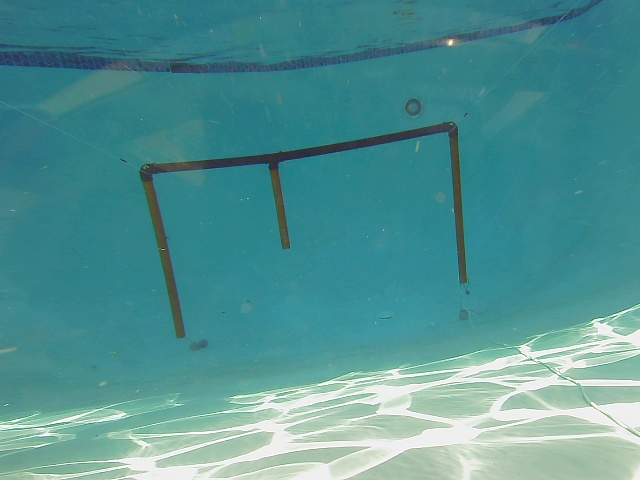Gate: (141, 177, 188, 344), (447, 131, 470, 286), (266, 166, 293, 255)
